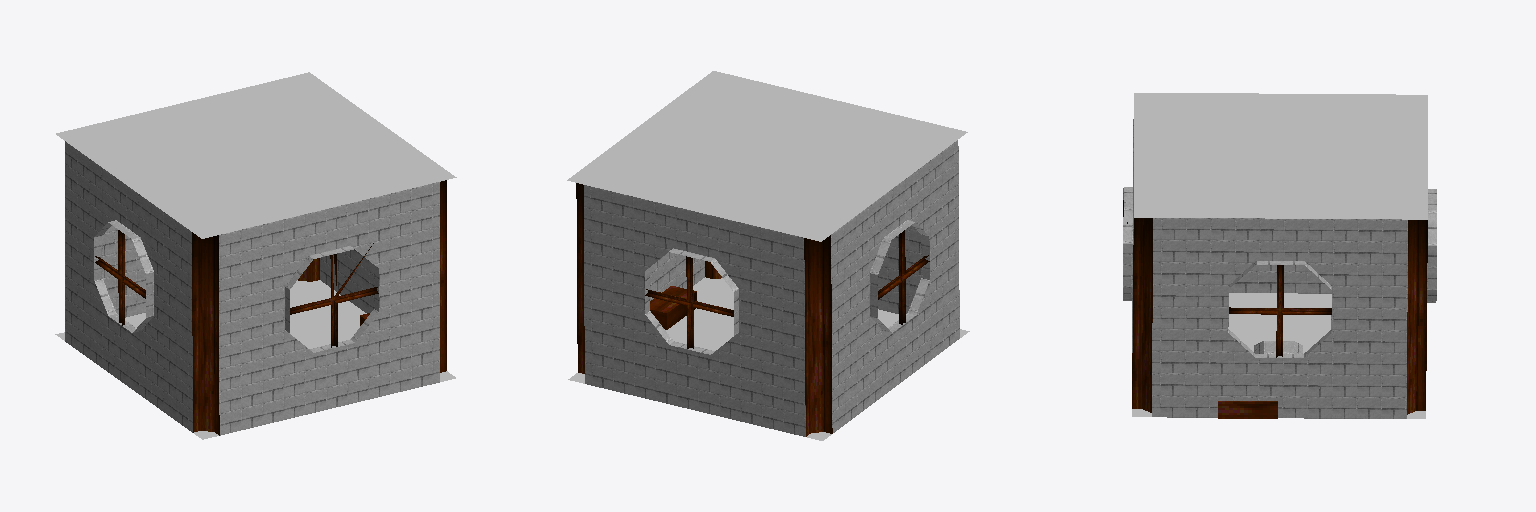
3 views of the same model, side by side, from view 1: azimuth 30°, elevation 25°; view 2: azimuth 150°, elevation 25°; view 3: azimuth 270°, elevation 25° (orthographic).
Visible parts, largest first — view 1: 010_2BF33E2A_c.bmp, 009_430A12DC_c.bmp, 011_4D23D68_c.bmp; view 2: 010_2BF33E2A_c.bmp, 009_430A12DC_c.bmp, 011_4D23D68_c.bmp; view 3: 010_2BF33E2A_c.bmp, 009_430A12DC_c.bmp, 011_4D23D68_c.bmp.
Boxes of the visible parts, box(x1,y1,x2,y2) form: 010_2BF33E2A_c.bmp: box(65, 141, 439, 435); 009_430A12DC_c.bmp: box(55, 72, 456, 439); 011_4D23D68_c.bmp: box(95, 180, 446, 435); 010_2BF33E2A_c.bmp: box(584, 140, 959, 436); 009_430A12DC_c.bmp: box(567, 71, 969, 440); 011_4D23D68_c.bmp: box(576, 183, 929, 436); 010_2BF33E2A_c.bmp: box(1123, 119, 1436, 418); 009_430A12DC_c.bmp: box(1132, 93, 1427, 418); 011_4D23D68_c.bmp: box(1123, 200, 1427, 418).
Size of the model in its own units: 6.56 by 4.67 by 6.57.
3 materials, 2 textured.